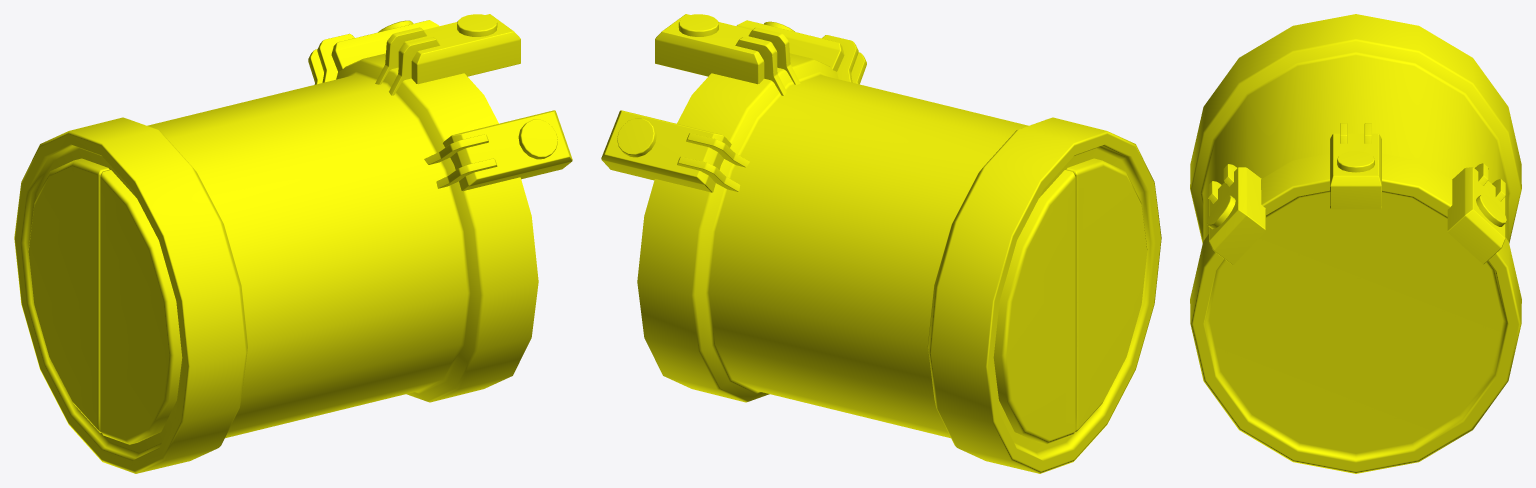
File: connecting_gateway.glb
The picture shows the model from 3 angles, left to right: view 1: azimuth 30°, elevation 25°; view 2: azimuth 150°, elevation 25°; view 3: azimuth 270°, elevation 25°; orthographic projection. The views are drawn at different scales.
Visible parts, largest first — view 1: Connecting_gateway; view 2: Connecting_gateway; view 3: Connecting_gateway.
Boxes of the visible parts, x1,y1,x2,y2 form: Connecting_gateway: [14, 14, 572, 473]; Connecting_gateway: [601, 14, 1161, 473]; Connecting_gateway: [1190, 14, 1521, 473].
Size of the model in its own units: 3.69 by 3.01 by 2.76.
1 material, 1 textured.
